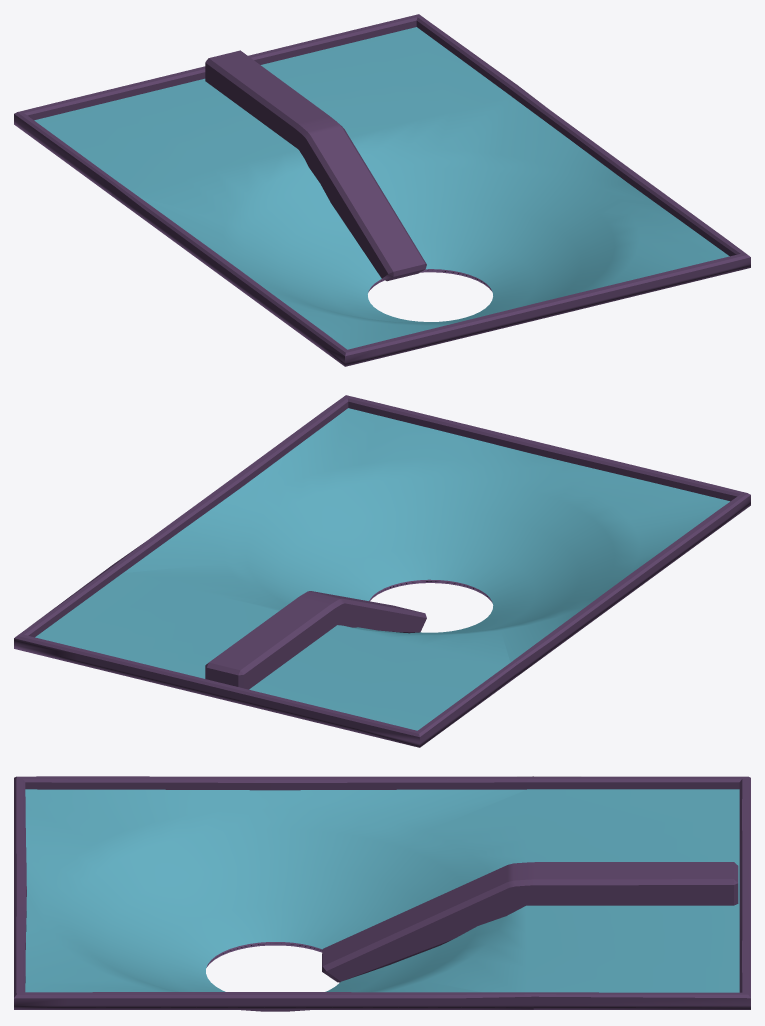
The model's file is frame_08_model.fbx.
3 renders of one model, top to bottom at view 1: azimuth 30°, elevation 25°; view 2: azimuth 150°, elevation 25°; view 3: azimuth 270°, elevation 25°, orthographic. The views are drawn at different scales.
Parts seen in each view (by area): view 1: frame, barrier; view 2: frame, barrier; view 3: frame, barrier.
Boxes of the visible parts, bbox=[...] form: frame: bbox=[14, 14, 750, 366]; barrier: bbox=[205, 50, 426, 281]; frame: bbox=[14, 395, 750, 747]; barrier: bbox=[205, 591, 426, 689]; frame: bbox=[14, 776, 750, 1011]; barrier: bbox=[322, 862, 738, 982].
Bounding box in the file's own units: 18.64 × 4.15 × 26.34.
